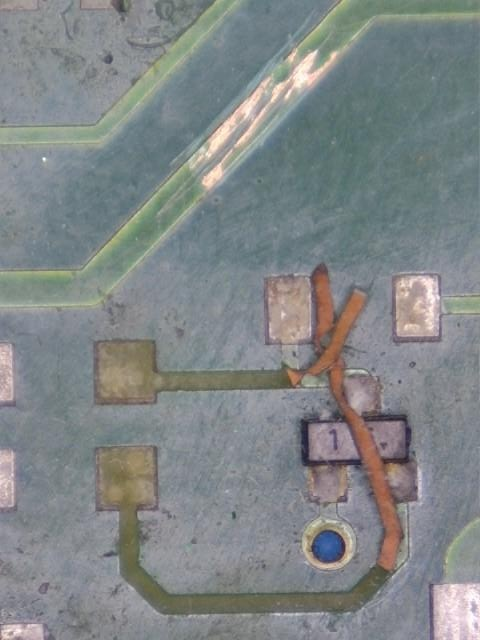pcb_defect: (94, 261, 404, 615), (93, 289, 368, 404), (206, 76, 270, 157), (272, 50, 337, 102), (235, 108, 265, 146), (202, 149, 232, 186), (288, 48, 297, 60)
